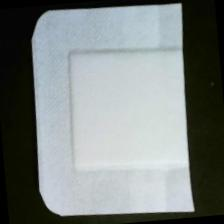Cut: (21, 1, 208, 224)
